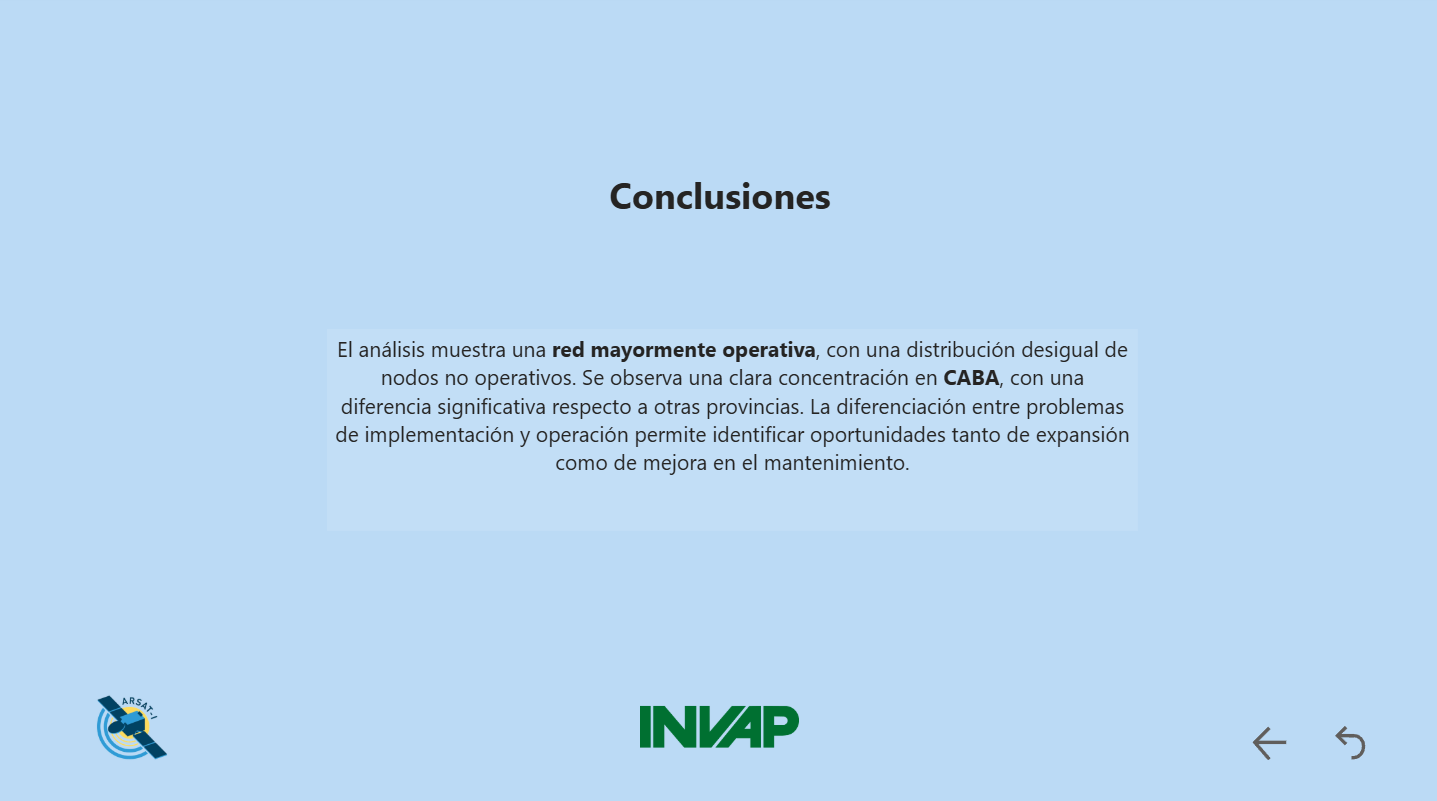

Layout of this report page (visuals, bound fields, positions):
{"tool":"powerbi","page":{"name":"Conclusiones","canvas":[1280,720],"ordinal":5},"visuals":[{"type":"textbox","box":[485.9,149.9,308.6,65.6],"z":0},{"type":"textbox","box":[291.7,296.2,719.1,179.1],"z":1},{"type":"actionButton","box":[1108.6,643.6,50.5,39.9],"z":2},{"type":"image","box":[55.5,614.3,126.3,69.9],"z":4},{"type":"image","box":[569.6,607.2,141.5,83.3],"z":5},{"type":"actionButton","box":[1179.3,642.9,55.9,39.9],"z":6}]}

Visuals, with their boxes in screenshot pixels (x1, y1, x2, y2), scaled from the page's 1280x720 canvas onto the 1437x801 screenshot:
textbox: x1=545 y1=167 x2=892 y2=240
textbox: x1=327 y1=330 x2=1135 y2=529
actionButton: x1=1245 y1=716 x2=1301 y2=760
image: x1=62 y1=683 x2=204 y2=761
image: x1=639 y1=676 x2=798 y2=768
actionButton: x1=1324 y1=715 x2=1387 y2=760
